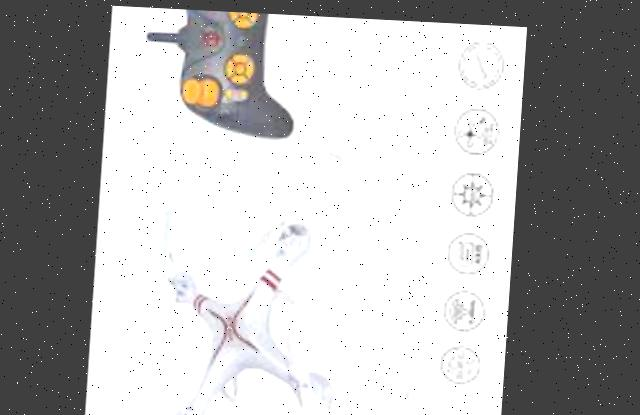drone: (103, 128, 438, 415)
